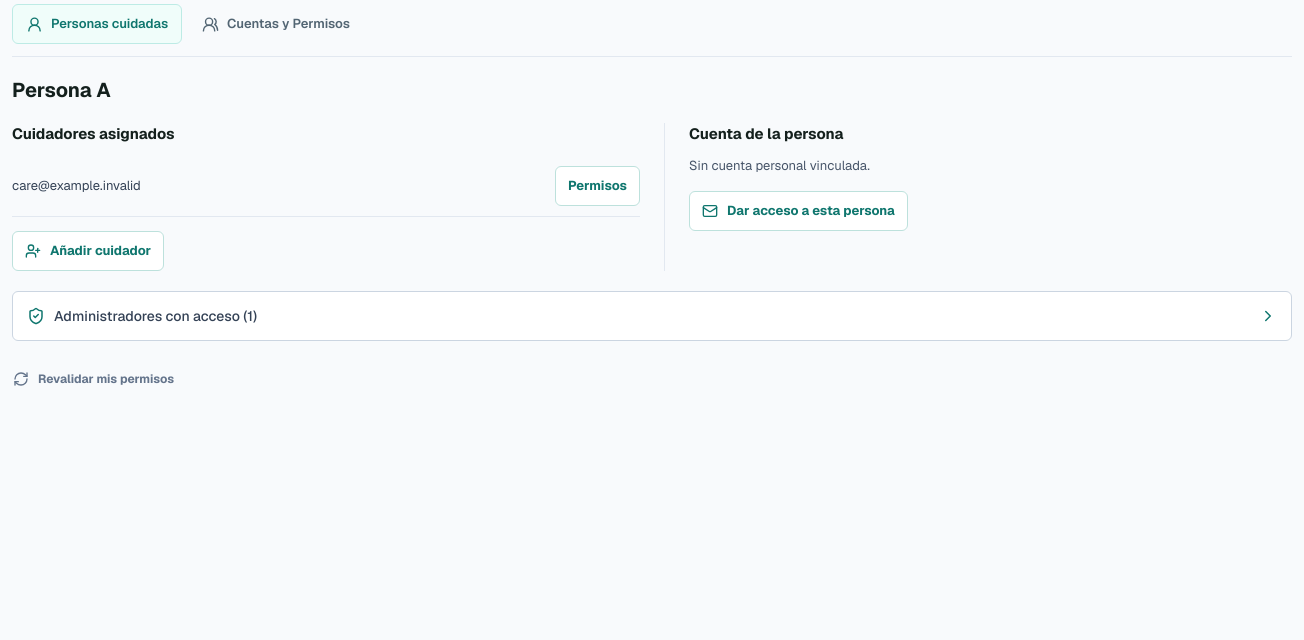
Test: person view describes care separately from personal identity and uses a single-choice ficha
The width and height of the screenshot is (1304, 640).
Check: the text "care@example.invalid" is shown, box [12,176,141,196]
Check: the heading "Cuidadores asignados" is shown, box [12,124,175,143]
Click the button "Dar acceso a esta persona" at (798, 211), box [689,191,908,231]
(page scrolled)
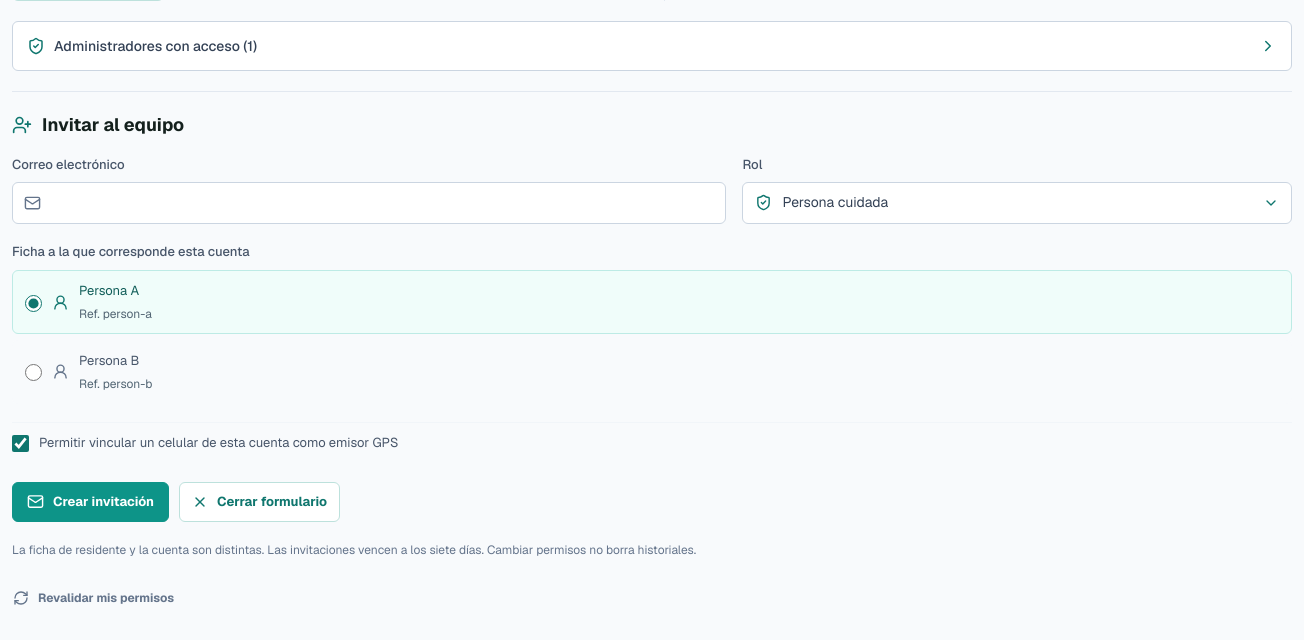
Check: the text "Ficha a la que corresponde esta cuenta" is shown, box [12,242,250,261]
Check: the radio button labelled "Persona A" is checked, box [25,295,42,312]
Check: the number of radio buttons is 2
Click the radio button labelled "Persona B" at (34, 373), box [25,364,42,381]
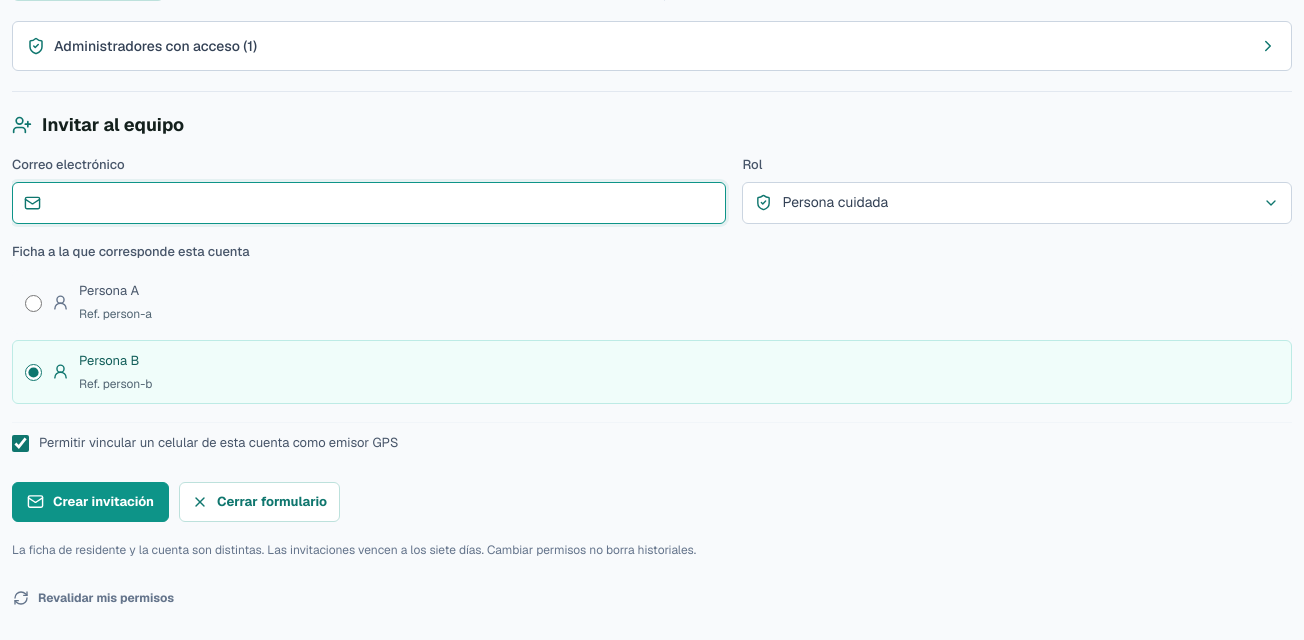
Check: the radio button labelled "Persona B" is checked, box [25,364,42,381]
Check: the radio button labelled "Persona A" is not checked, box [25,295,42,312]
